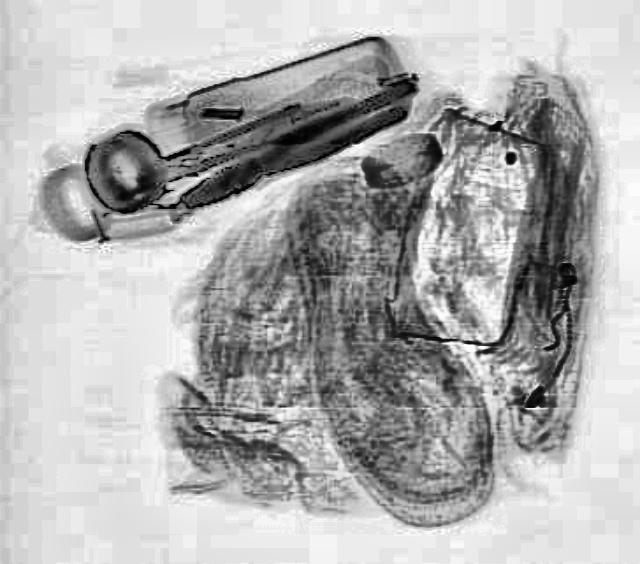Pliers: (165, 73, 427, 217)
